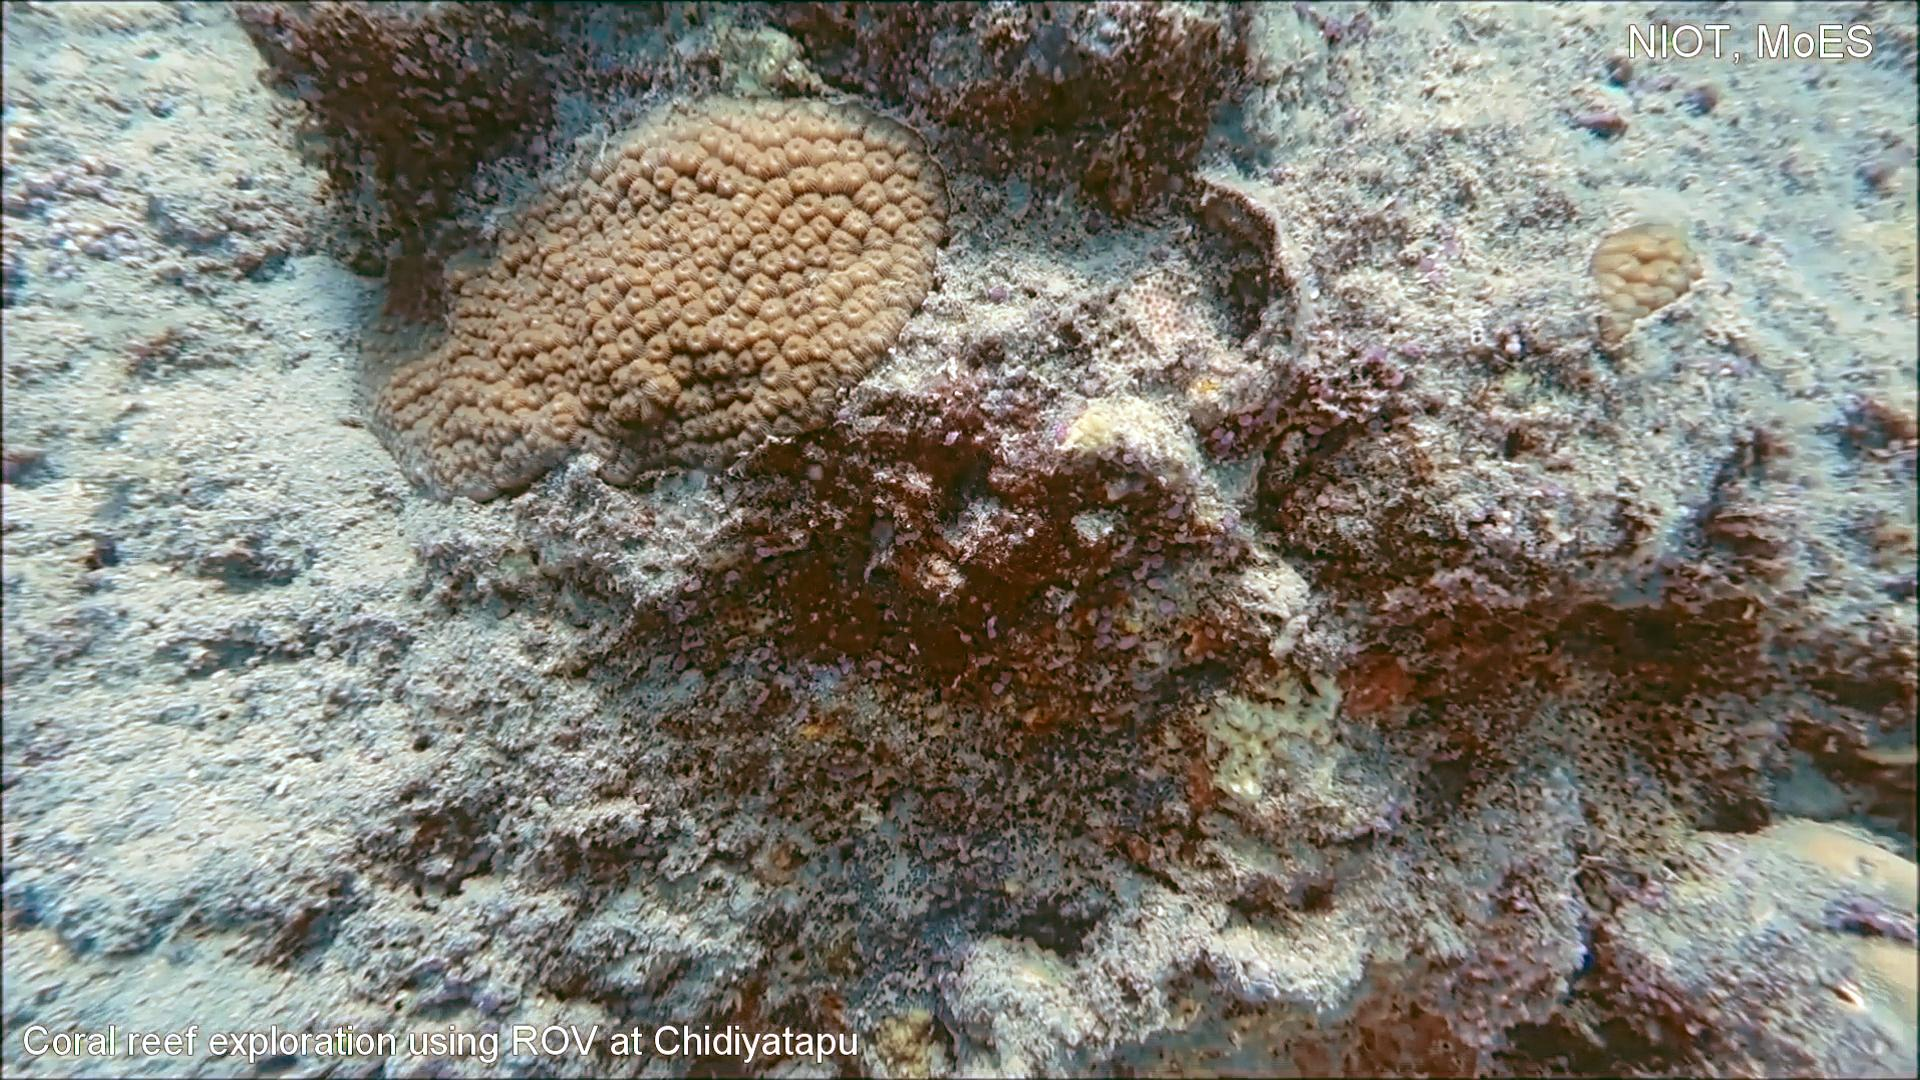Montastraea: (360, 80, 965, 513), (1580, 208, 1709, 365)
